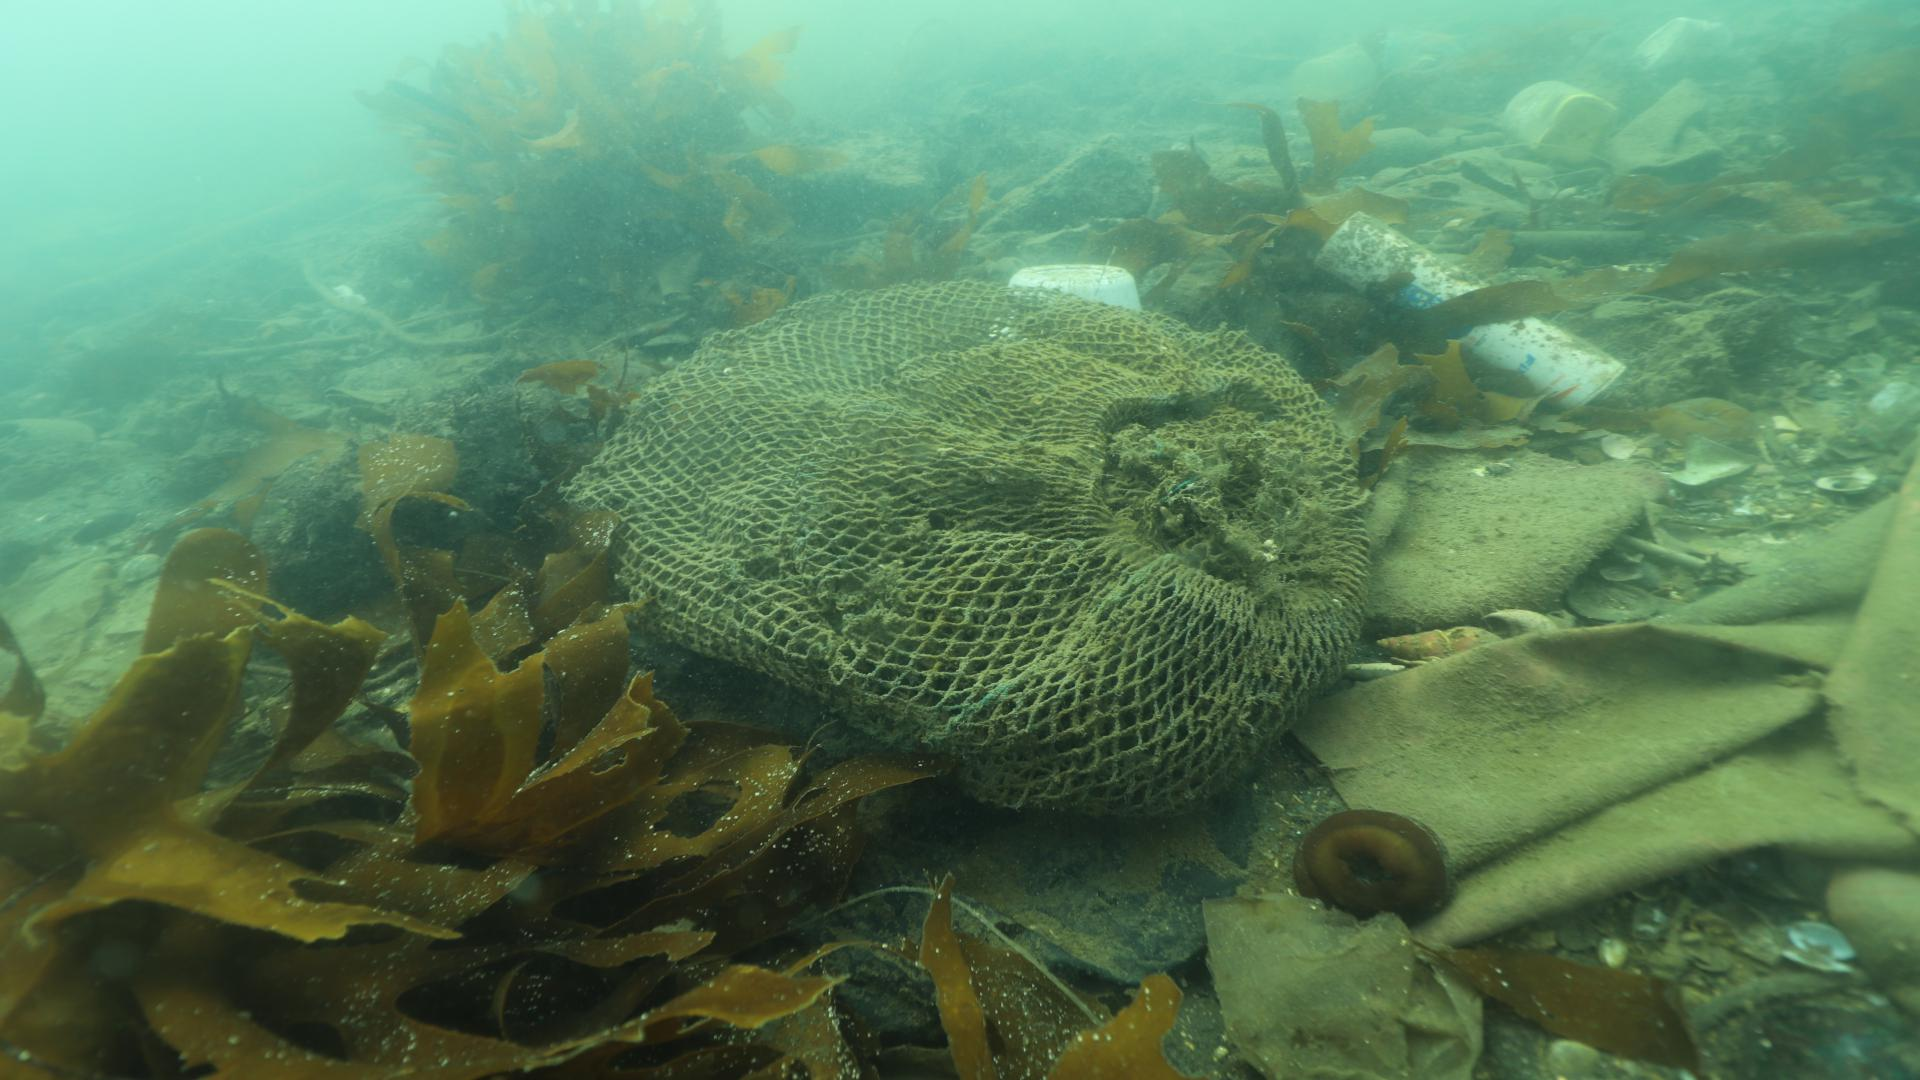fish net: (564, 280, 1369, 812)
